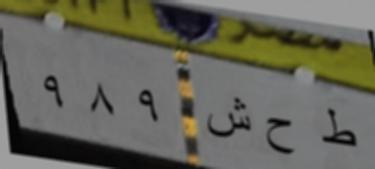7aa: (260, 106, 301, 160)
8: (85, 74, 118, 125)
9: (36, 67, 72, 117), (133, 82, 164, 128)
Taa: (311, 100, 368, 156)
sheen: (206, 93, 257, 146)
